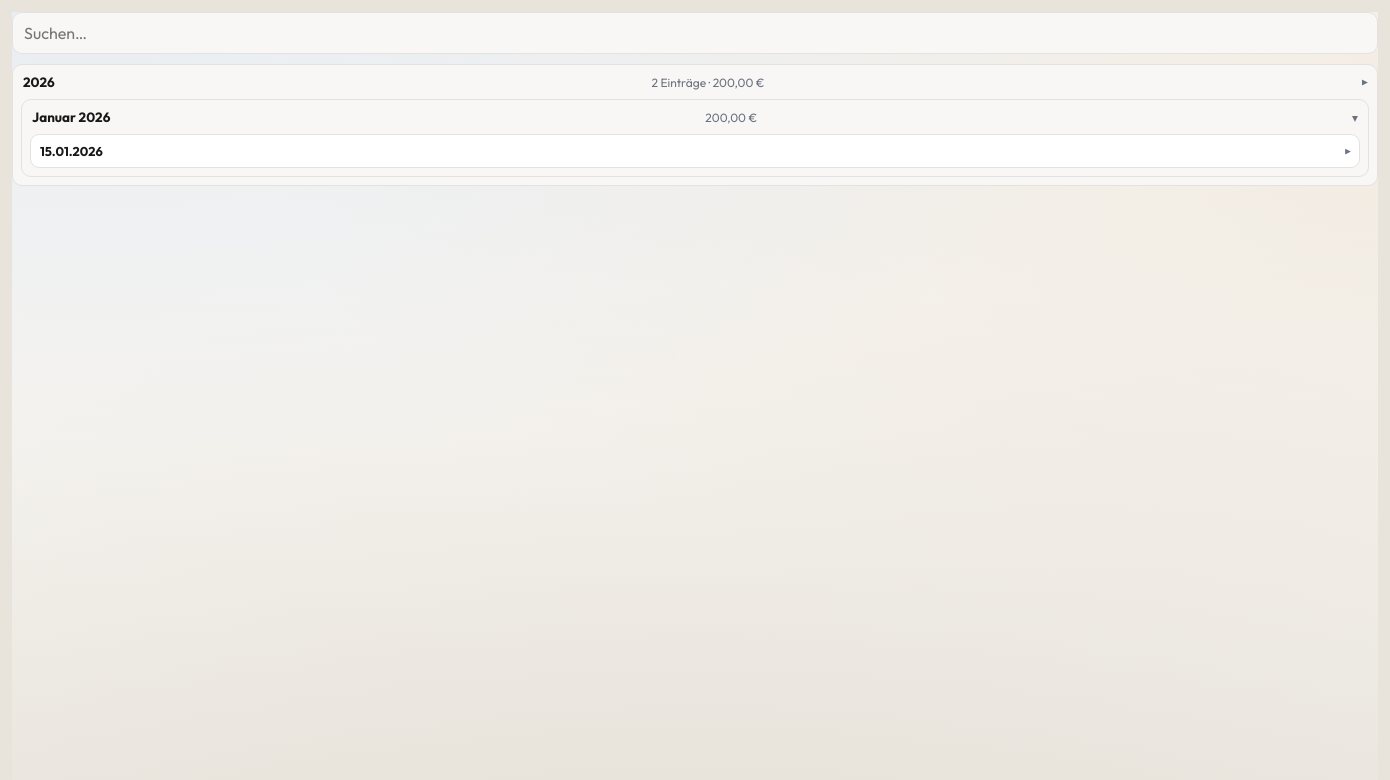
it: EntriesList › shows the no-match message when the search filters everything out
Type "xyz" into the field with placeholder "Suchen…".
click(695, 33); type("xyz")  # box [12, 12, 1378, 54]
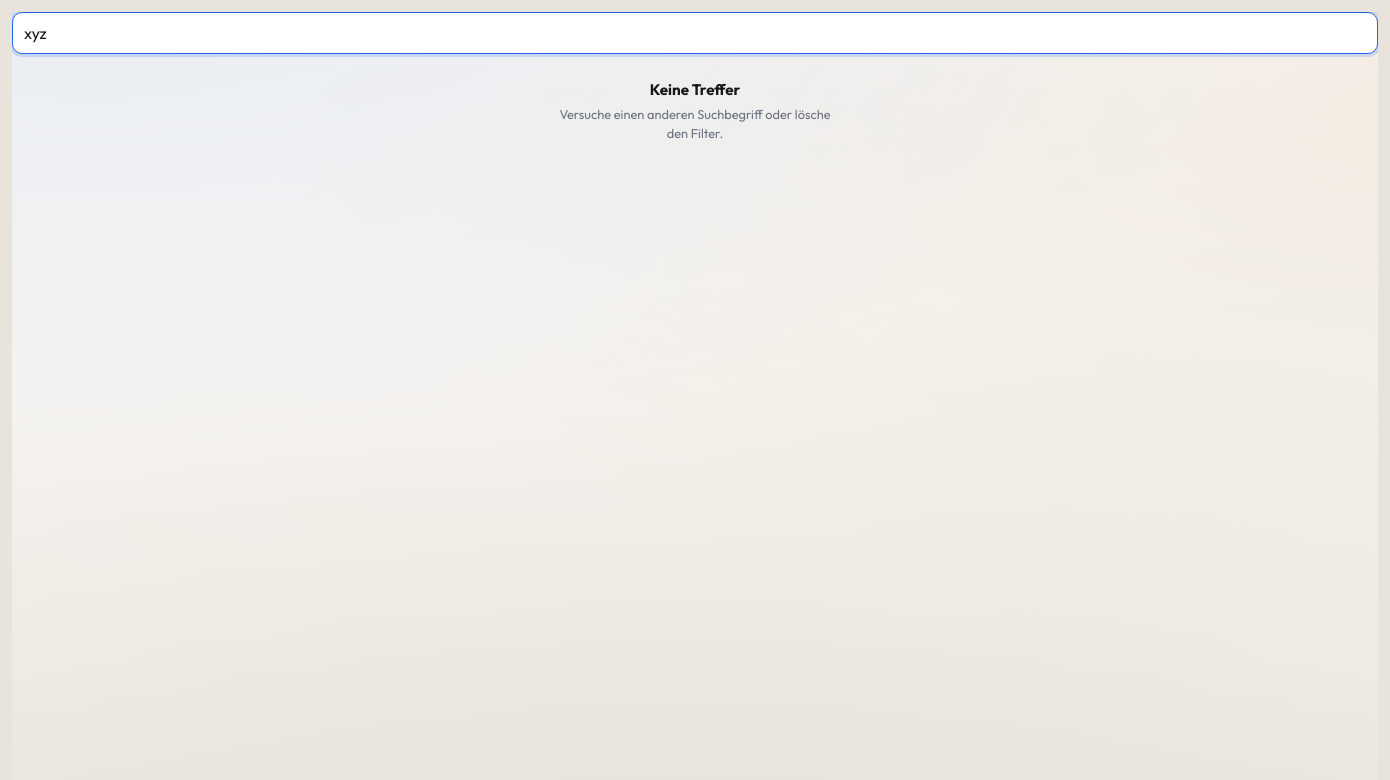
Expected: the text "Keine Treffer" is shown, [650, 80, 740, 99]
